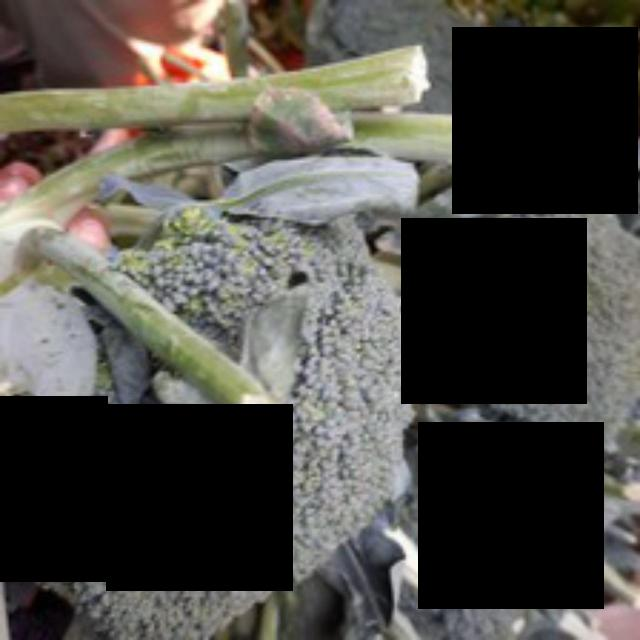broccoli: (0, 182, 428, 637)
